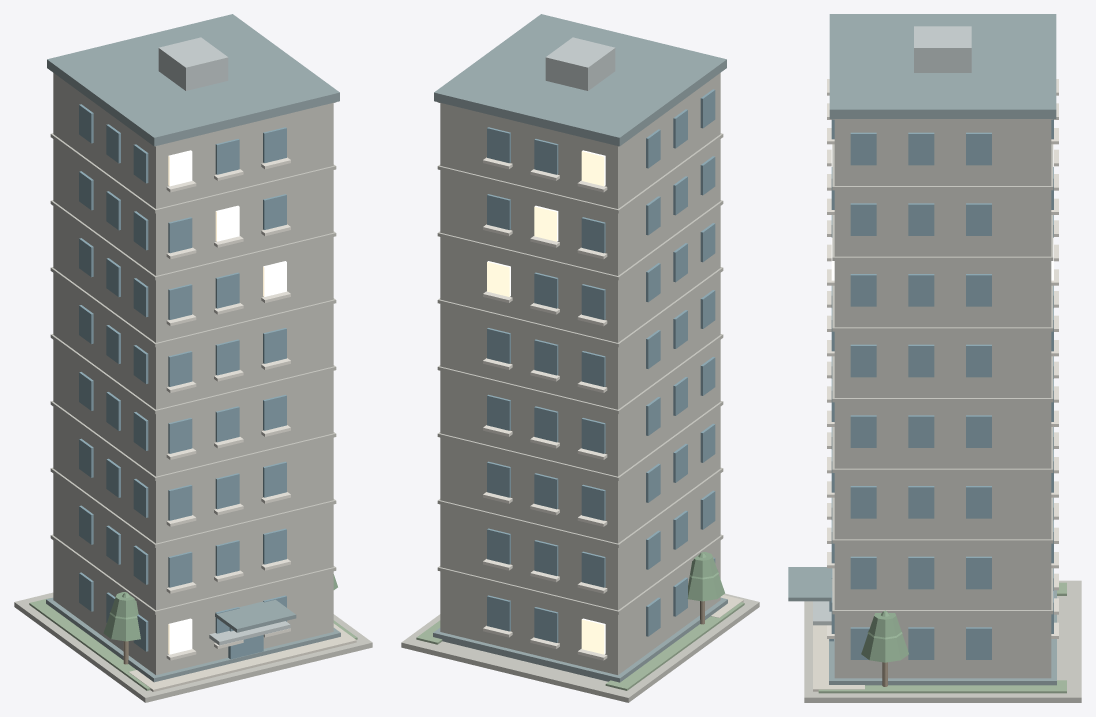
The model's file is remaster_office_8.glb.
3 renders of one model, left to right at view 1: azimuth 30°, elevation 25°; view 2: azimuth 150°, elevation 25°; view 3: azimuth 270°, elevation 25°, orthographic. The views are drawn at different scales.
Visible parts, largest first — view 1: remaster_office_8 stone, remaster_office_8 glass, remaster_office_8 roof, remaster_office_8 white, remaster_office_8 metal, remaster_office_8 warm, remaster_office_8 cream, remaster_office_8 green, remaster_office_8 leaf; view 2: remaster_office_8 stone, remaster_office_8 glass, remaster_office_8 roof, remaster_office_8 white, remaster_office_8 warm, remaster_office_8 metal, remaster_office_8 green, remaster_office_8 leaf; view 3: remaster_office_8 stone, remaster_office_8 roof, remaster_office_8 glass, remaster_office_8 white, remaster_office_8 metal, remaster_office_8 green, remaster_office_8 leaf, remaster_office_8 cream.
Boxes of the visible parts, left/top/right/bottom form: remaster_office_8 stone: left=14, top=73, right=372, bottom=702; remaster_office_8 glass: left=79, top=104, right=286, bottom=659; remaster_office_8 roof: left=46, top=14, right=340, bottom=682; remaster_office_8 white: left=166, top=157, right=290, bottom=660; remaster_office_8 metal: left=158, top=37, right=290, bottom=645; remaster_office_8 warm: left=168, top=150, right=286, bottom=654; remaster_office_8 cream: left=129, top=623, right=356, bottom=691; remaster_office_8 green: left=29, top=598, right=357, bottom=690; remaster_office_8 leaf: left=103, top=574, right=337, bottom=641; remaster_office_8 stone: left=401, top=73, right=759, bottom=702; remaster_office_8 glass: left=487, top=89, right=715, bottom=642; remaster_office_8 roof: left=433, top=14, right=727, bottom=682; remaster_office_8 white: left=483, top=157, right=607, bottom=660; remaster_office_8 warm: left=487, top=150, right=605, bottom=654; remaster_office_8 metal: left=545, top=37, right=615, bottom=90; remaster_office_8 green: left=416, top=602, right=744, bottom=690; remaster_office_8 leaf: left=687, top=552, right=724, bottom=601; remaster_office_8 stone: left=804, top=119, right=1081, bottom=702; remaster_office_8 roof: left=788, top=14, right=1056, bottom=685; remaster_office_8 glass: left=829, top=119, right=1053, bottom=659; remaster_office_8 white: left=827, top=79, right=1058, bottom=638; remaster_office_8 metal: left=813, top=26, right=971, bottom=625; remaster_office_8 green: left=818, top=582, right=1066, bottom=693; remaster_office_8 leaf: left=861, top=610, right=908, bottom=662; remaster_office_8 cream: left=813, top=625, right=864, bottom=691.
Size of the model in its own units: 9.64 by 23.2 by 10.15.
